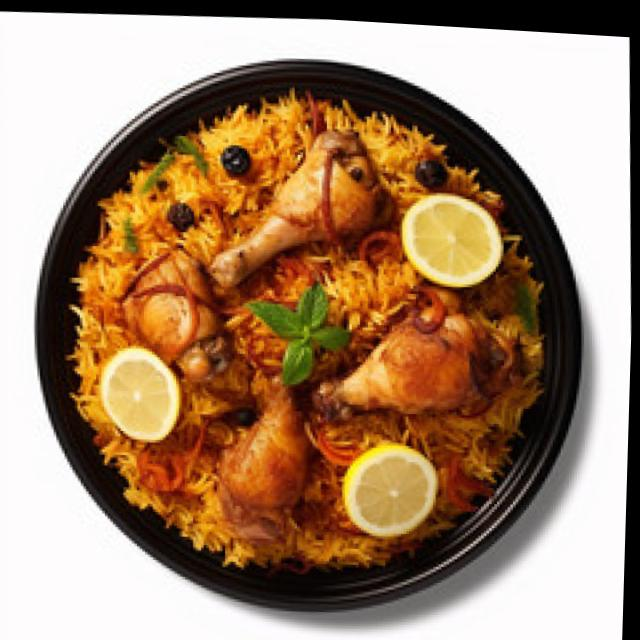BIRIYANI: (23, 35, 568, 634)
